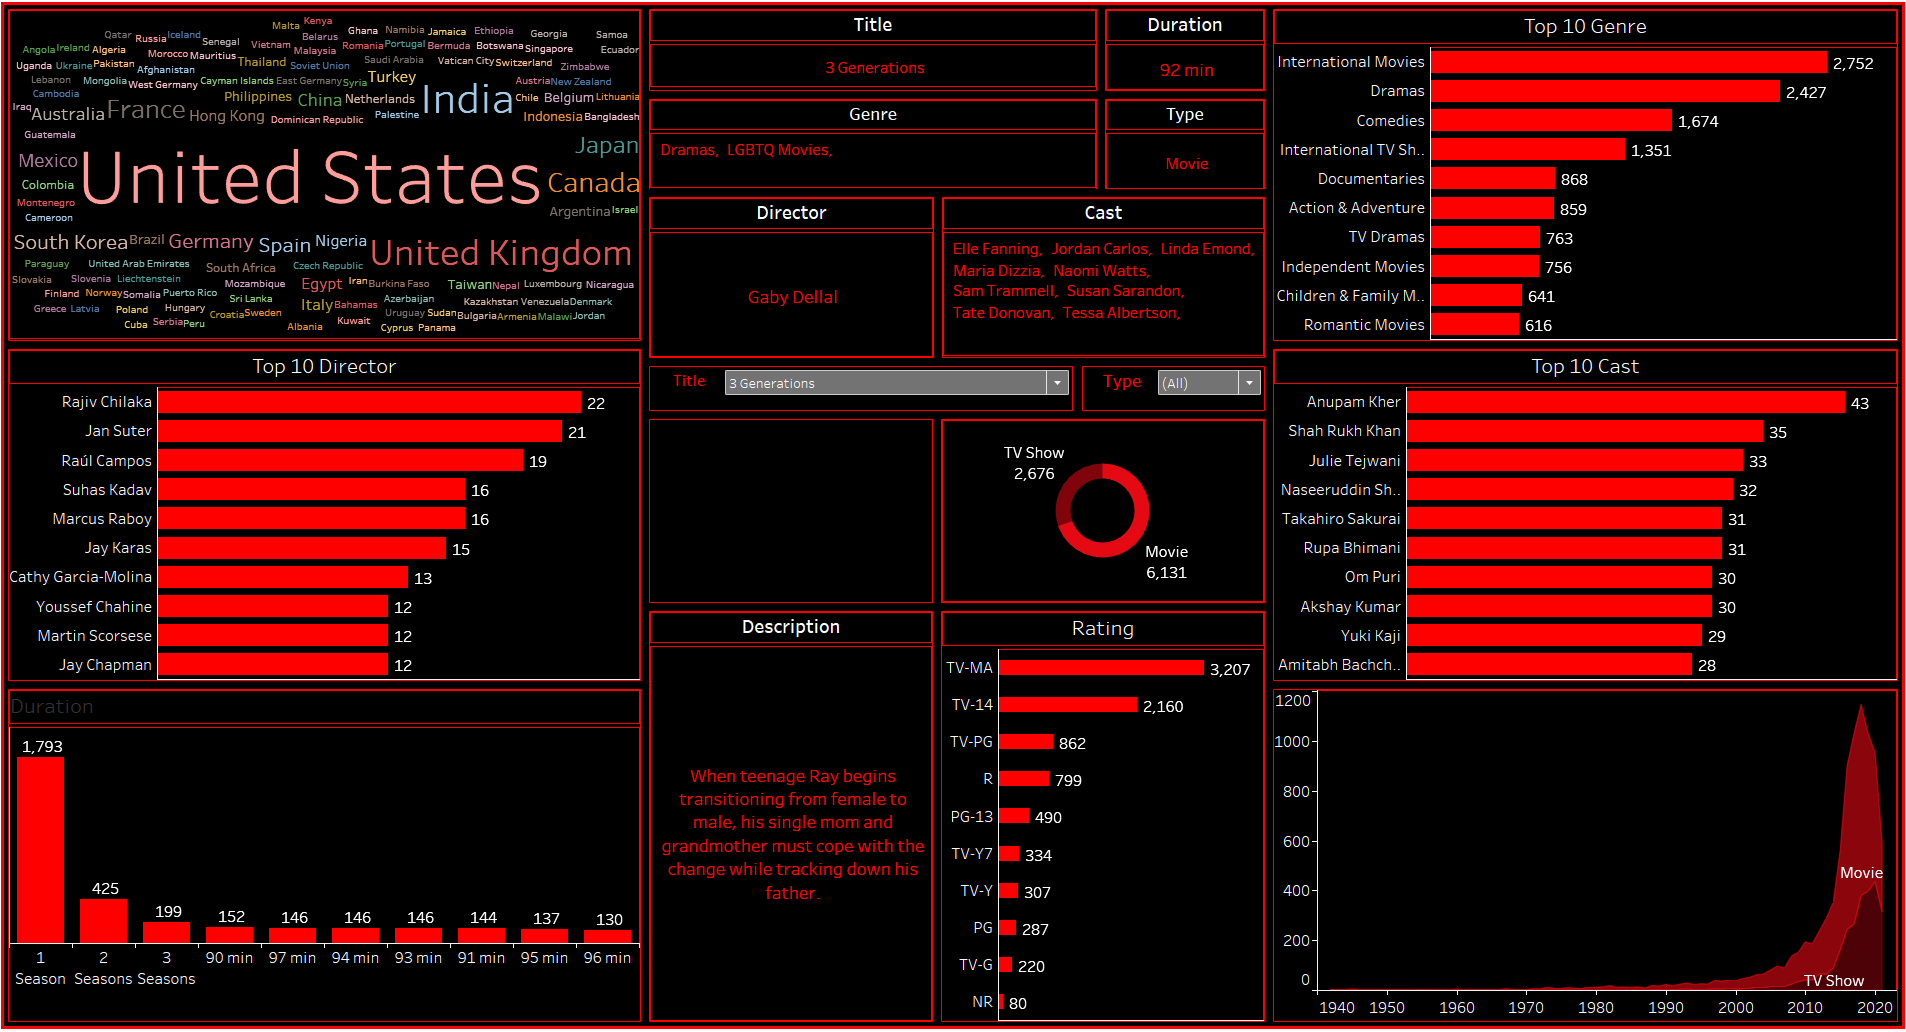

The page's visual inventory and layout, read from the dashboard file:
{"tool":"tableau","page":{"name":"Dashboard 1","canvas":[1000,1000],"units":"permille","ordinal":0},"visuals":[{"type":"worksheet","title":"Country","mark":"Text","box":[6.6,12.9,333.4,324.3]},{"type":"worksheet","title":"Show Title","mark":"Automatic","box":[340,12.9,236.8,85.4]},{"type":"worksheet","title":"Show Duration","mark":"Automatic","box":[576.8,12.9,87.3,85.4]},{"type":"worksheet","title":"Top 10 Genre","mark":"Automatic","rows":["listed_in"],"cols":["Calculation_1211749824408596480"],"box":[664.1,12.9,329.2,324.3]},{"type":"worksheet","title":"Show Genre","mark":"Automatic","box":[340,98.4,236.9,94.1]},{"type":"worksheet","title":"Show Type","mark":"Automatic","box":[577,98.4,87.2,94.1]},{"type":"worksheet","title":"Show Director","mark":"Automatic","box":[340,192.5,152.2,161.2]},{"type":"worksheet","title":"Show Cast","mark":"Automatic","box":[492.3,192.5,171.9,161.2]},{"type":"worksheet","title":"Top 10 Director","mark":"Automatic","rows":["director"],"cols":["Calculation_1211749824408596480"],"box":[6.6,337.2,333.4,324.6]},{"type":"worksheet","title":"Top 10 Cast","mark":"Automatic","rows":["cast"],"cols":["Calculation_1211749824408596480"],"box":[664.1,337.2,329.2,324.6]},{"type":"filter","title":"Show Description","param":"[federated.111yxpk1ozunc01ai0ggy06lsw59].[none:title:nk]","box":[340,353.6,224.8,50.5]},{"type":"filter","title":"Type","param":"[federated.111yxpk1ozunc01ai0ggy06lsw59].[none:type:nk]","box":[564.8,353.6,99.3,50.5]},{"type":"image","param":"C:/Users/VIVEK/Downloads/Netflix.jpg","box":[340,404.2,151.7,183.3]},{"type":"worksheet","title":"Type","mark":"Pie","rows":["Calculation_1342354213604261889","Calculation_1342354213604261889"],"box":[491.8,404.2,172.4,183.3]},{"type":"worksheet","title":"Show Description","mark":"Automatic","box":[340,587.5,151.7,399.6]},{"type":"worksheet","title":"Rating","mark":"Automatic","rows":["rating"],"cols":["Calculation_1211749824408596480"],"box":[491.7,587.5,172.4,399.6]},{"type":"worksheet","title":"Duration","mark":"Automatic","rows":["Calculation_1211749824408596480"],"cols":["duration"],"box":[6.6,661.8,333.4,325.2]},{"type":"worksheet","title":"Year","mark":"Area","rows":["Calculation_1211749824408596480"],"cols":["release_year"],"box":[664.1,661.8,329.2,325.2]}]}

Visuals, with their boxes on the dashboard's canvas, which has no fixed pixel size, in thousandths of its width and height (x1, y1, x2, y2). These are canvas units, not pixel positions in the 1906x1032 screenshot, which may show the page scaled, cropped or inside an application window:
"Country" worksheet (Text marks): Rect(7, 13, 340, 337)
"Show Title" worksheet: Rect(340, 13, 577, 98)
"Show Duration" worksheet: Rect(577, 13, 664, 98)
"Top 10 Genre" worksheet: Rect(664, 13, 993, 337)
"Show Genre" worksheet: Rect(340, 98, 577, 192)
"Show Type" worksheet: Rect(577, 98, 664, 192)
"Show Director" worksheet: Rect(340, 192, 492, 354)
"Show Cast" worksheet: Rect(492, 192, 664, 354)
"Top 10 Director" worksheet: Rect(7, 337, 340, 662)
"Top 10 Cast" worksheet: Rect(664, 337, 993, 662)
"Show Description" filter: Rect(340, 354, 565, 404)
"Type" filter: Rect(565, 354, 664, 404)
image: Rect(340, 404, 492, 588)
"Type" worksheet (Pie marks): Rect(492, 404, 664, 588)
"Show Description" worksheet: Rect(340, 588, 492, 987)
"Rating" worksheet: Rect(492, 588, 664, 987)
"Duration" worksheet: Rect(7, 662, 340, 987)
"Year" worksheet (Area marks): Rect(664, 662, 993, 987)
